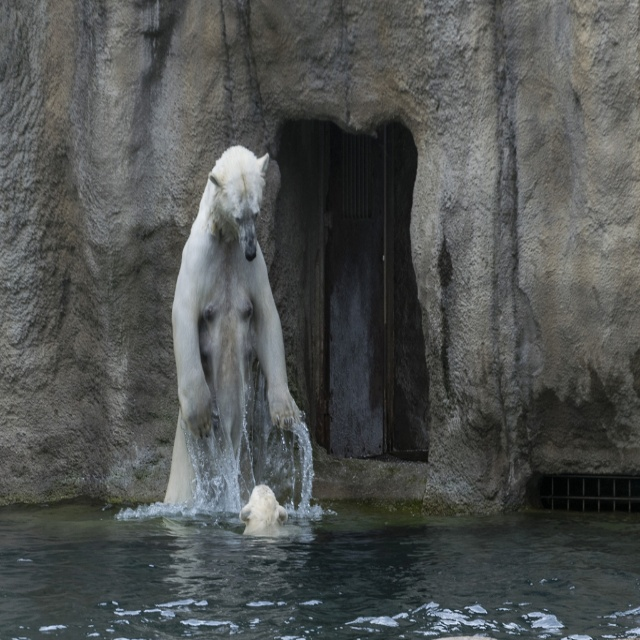Polar bear: (162, 143, 300, 510), (240, 480, 286, 536)
